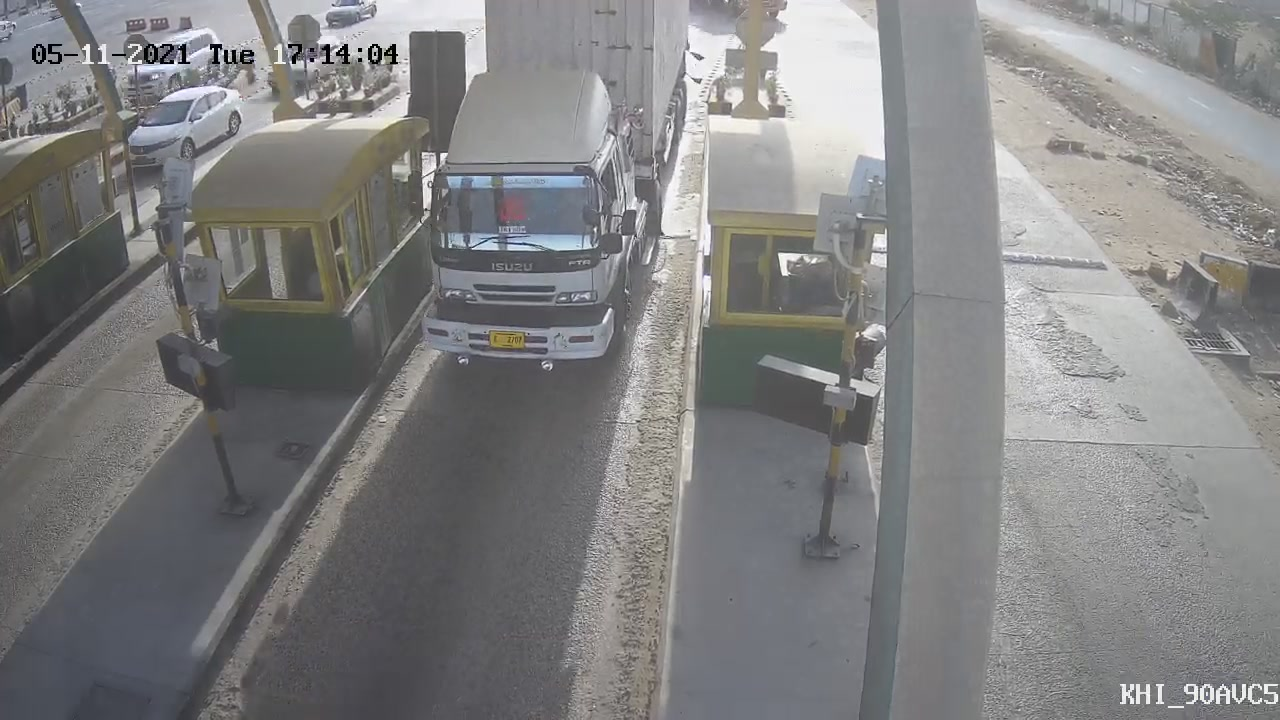F6: (378, 1, 704, 398)
